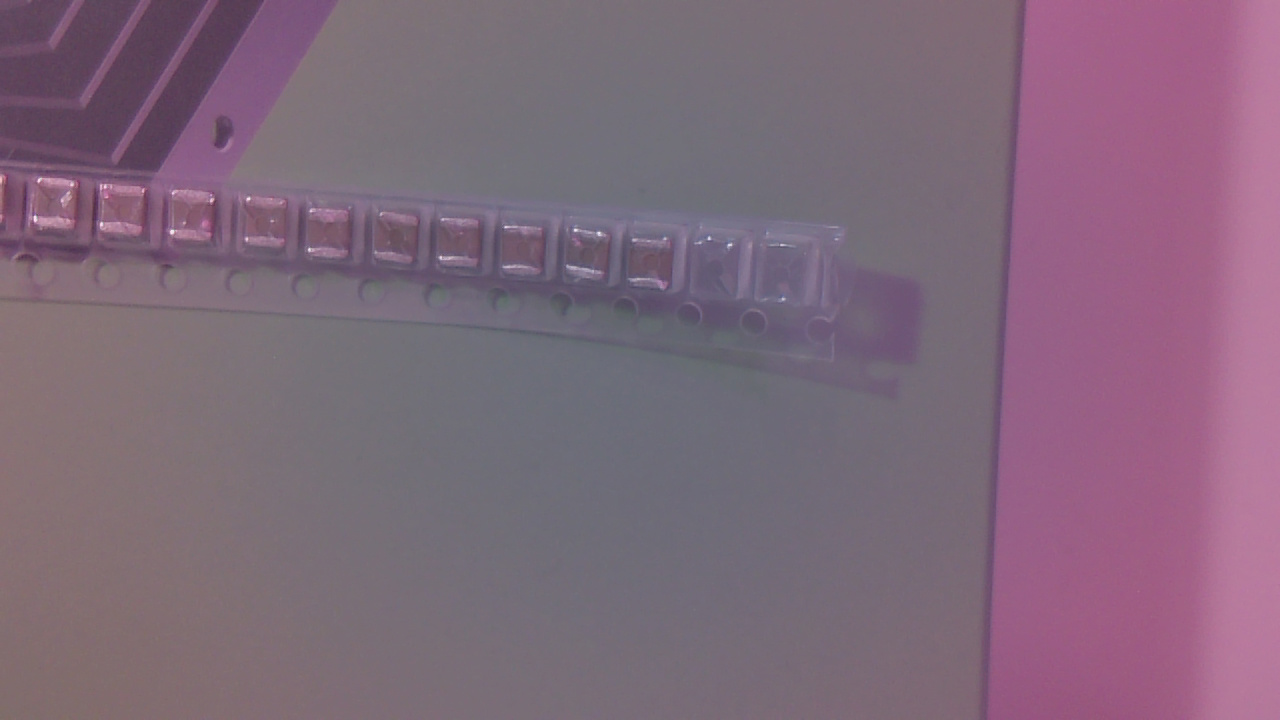Condensator: (34, 180, 85, 235), (569, 230, 617, 287), (174, 193, 222, 248), (504, 227, 551, 282), (441, 219, 488, 274), (377, 216, 425, 269), (104, 186, 151, 240), (310, 213, 358, 264), (247, 201, 292, 255), (629, 243, 676, 292)
